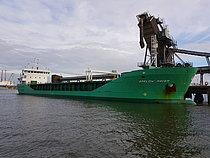Ship: (12, 53, 203, 109)
